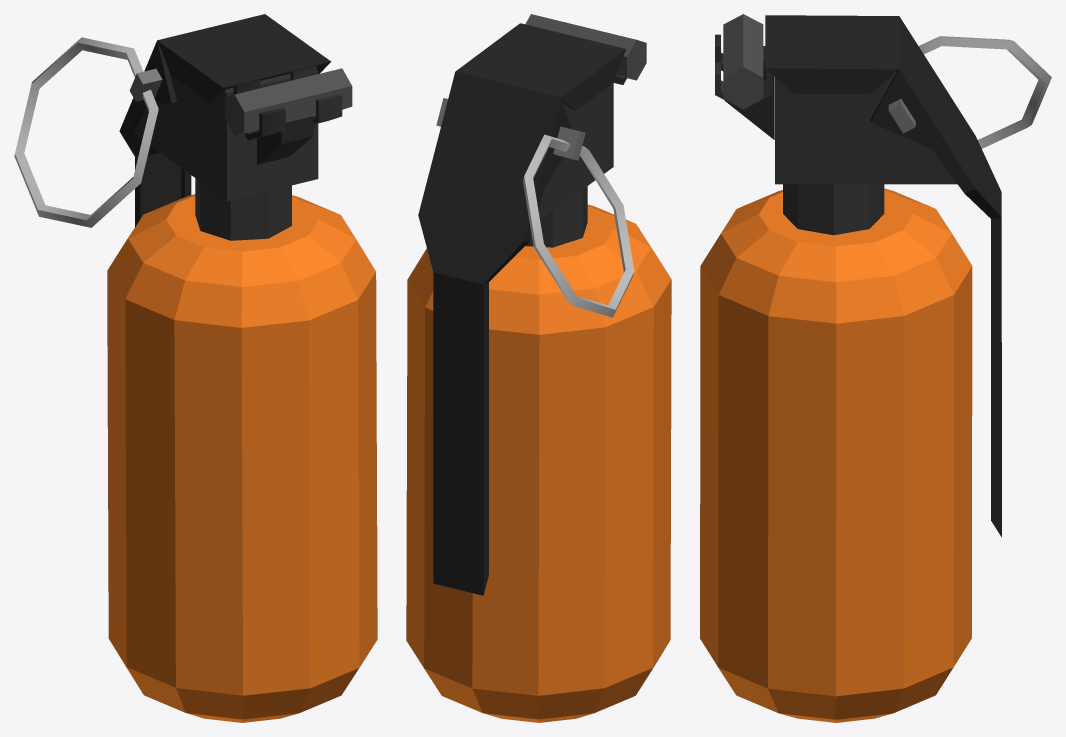
The model's file is Incendiary1.FBX.
3 views of the same model, side by side, from view 1: azimuth 30°, elevation 25°; view 2: azimuth 150°, elevation 25°; view 3: azimuth 270°, elevation 25° (orthographic). The views are drawn at different scales.
Visible parts, largest first — view 1: Cylinder019, Sphere013, Object033, Object034; view 2: Cylinder019, Sphere013, Object033, Object034; view 3: Cylinder019, Sphere013, Object033, Object034.
Boxes of the visible parts, x1,y1,x2,y2 form: Cylinder019: (107, 194, 377, 722); Sphere013: (119, 14, 352, 240); Object033: (14, 37, 158, 227); Object034: (129, 68, 162, 101); Cylinder019: (406, 204, 671, 722); Sphere013: (418, 14, 646, 595); Object033: (523, 134, 634, 317); Object034: (436, 98, 585, 160); Cylinder019: (700, 188, 972, 722); Sphere013: (715, 14, 1001, 537); Object033: (918, 36, 1051, 148); Object034: (888, 98, 915, 133).
Size of the model in its own units: 0.1331 by 0.3165 by 0.1553.
